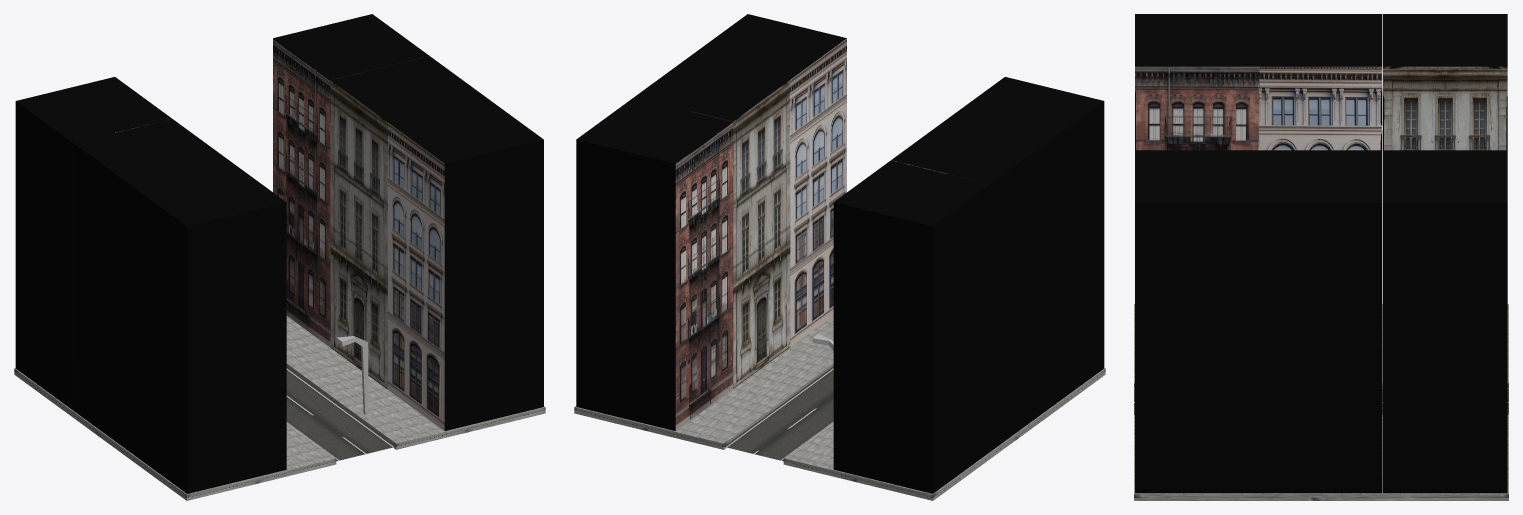
Rendered from Cutscene1.fbx.
3 renders of one model, left to right at view 1: azimuth 30°, elevation 25°; view 2: azimuth 150°, elevation 25°; view 3: azimuth 270°, elevation 25°, orthographic. The views are drawn at different scales.
Parts seen in each view (by area): view 1: SideWalk1; view 2: SideWalk1; view 3: SideWalk1.
Boxes of the visible parts, x1,y1,x2,y2 form: SideWalk1: (14,14,545,500); SideWalk1: (574,14,1105,500); SideWalk1: (1134,14,1508,500).
Bounding box in the file's own units: 12000 × 8751 × 10000.
8 materials, 5 textured.
